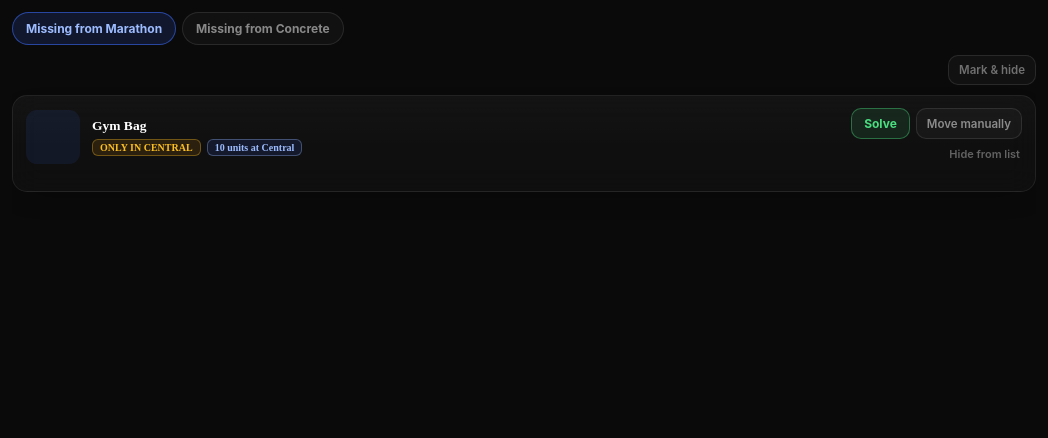
Scenario: mapped categories and explicit rows — on the path since 2026-09-17, with their own policies › the map names Trophy only: the Marathon PE chip is offered but its confirm is blocked with the no-policy sentence, and nothing is written
Step 1. Click the button "Solve" → click(880, 124), box [851,108,910,139]
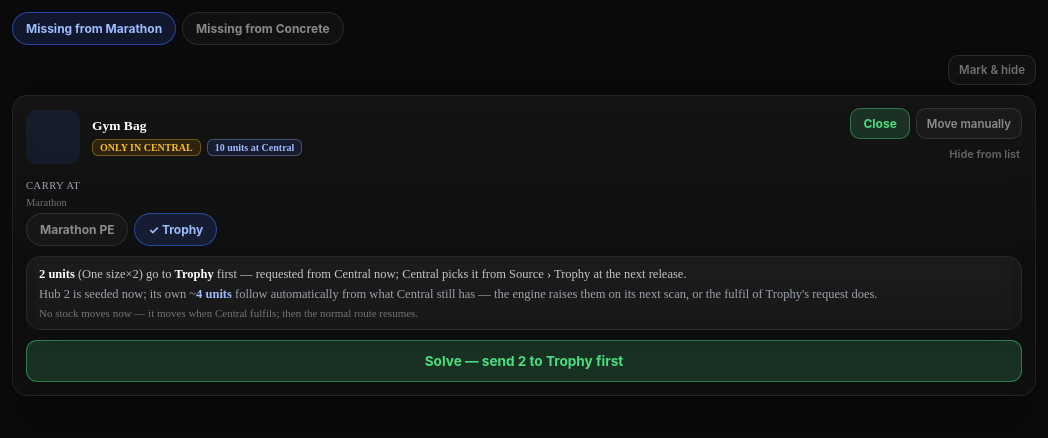
Step 2. Click the checkbox labelled "✓ Trophy" → click(176, 230), box [134,213,217,246]
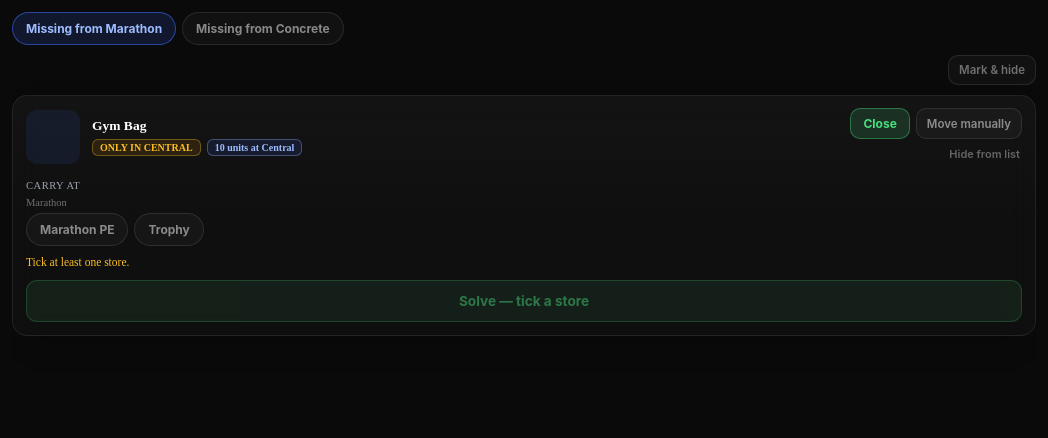
Step 3. Click the checkbox labelled "Marathon PE" → click(77, 230), box [26,213,128,246]
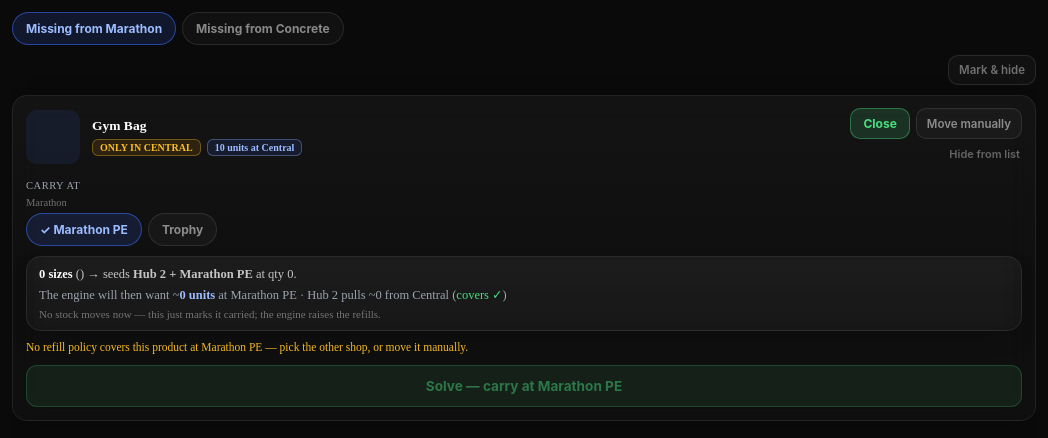
Result: the text "No refill policy covers this product at Marathon PE" is shown at [26,341,468,353]
